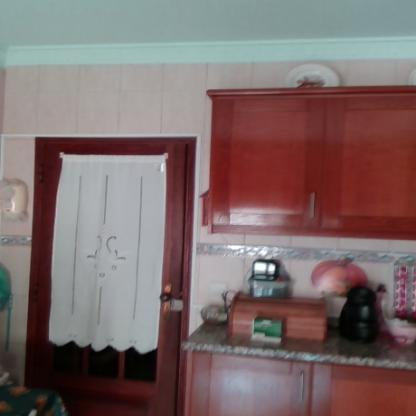door: (41, 144, 182, 416)
hinged: (36, 164, 46, 184), (32, 284, 42, 304)
knob: (158, 289, 172, 303)
